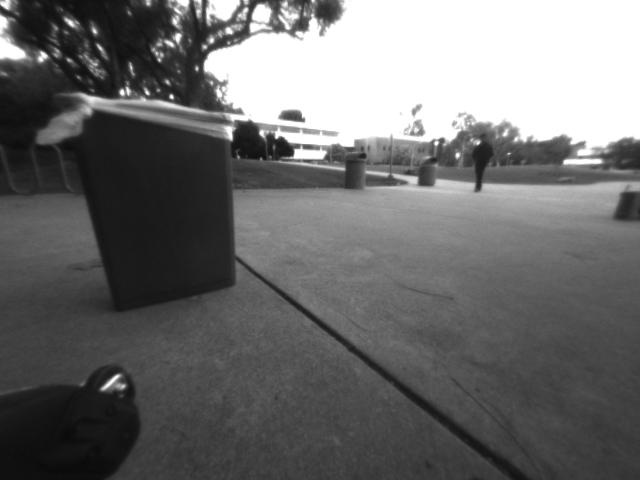trashcan: (40, 82, 252, 312)
